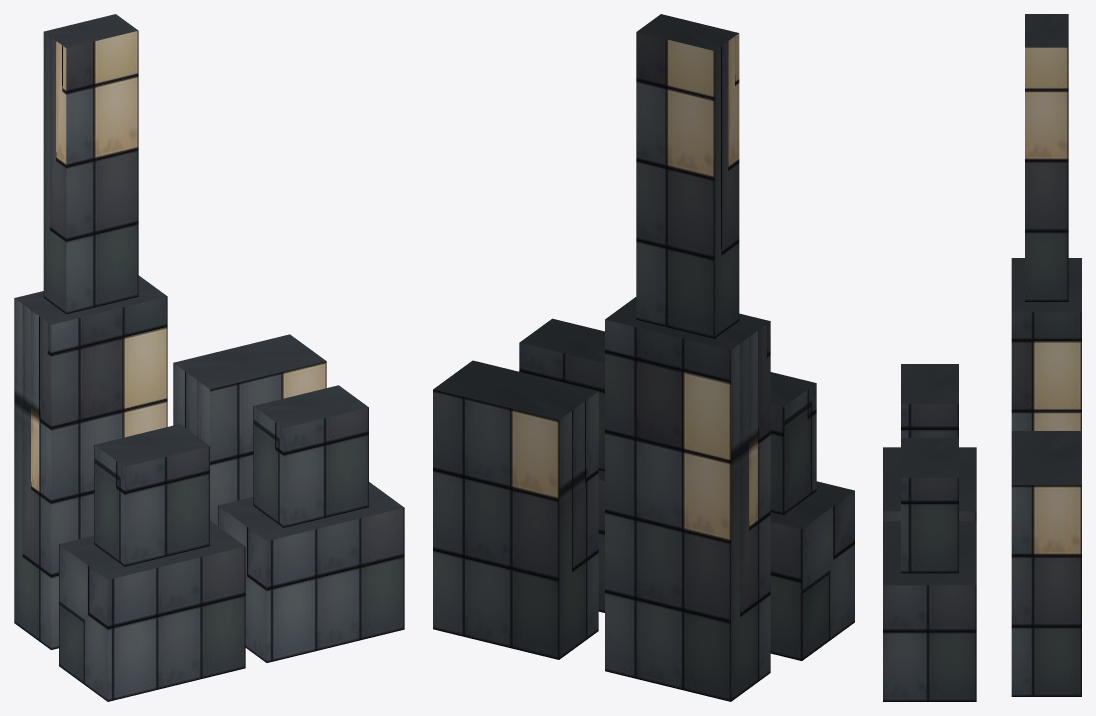
Rendered from city_block_12345_6_00.glb.
The picture shows the model from 3 angles, left to right: view 1: azimuth 30°, elevation 25°; view 2: azimuth 150°, elevation 25°; view 3: azimuth 270°, elevation 25°; orthographic projection. The views are drawn at different scales.
Visible parts, largest first — view 1: block_00; view 2: block_00; view 3: block_00.
Part boxes in pixels (<box>): block_00: <box>14,14,404,701</box>; block_00: <box>433,14,854,701</box>; block_00: <box>883,14,1081,701</box>.
Bounding box in the file's own units: 4.2 × 8 × 2.55.
Materials: 4 (4 with a texture image).
